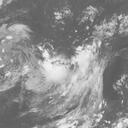cyclone: (36, 47, 94, 100)
